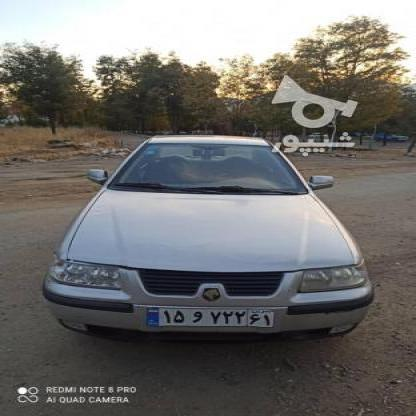licence: (146, 307, 274, 327)
